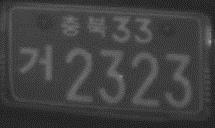2: (64, 46, 95, 103), (131, 51, 161, 106)
3: (164, 52, 194, 109), (99, 48, 125, 104), (111, 15, 130, 43), (133, 17, 153, 43)
거: (18, 43, 53, 82)
충북_O: (61, 14, 108, 39)
